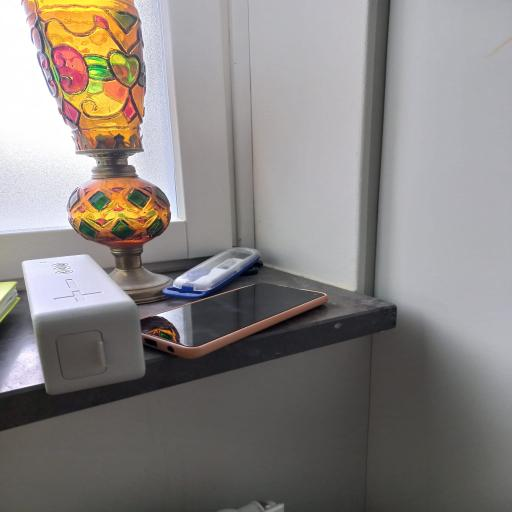phone: (140, 284, 327, 358)
